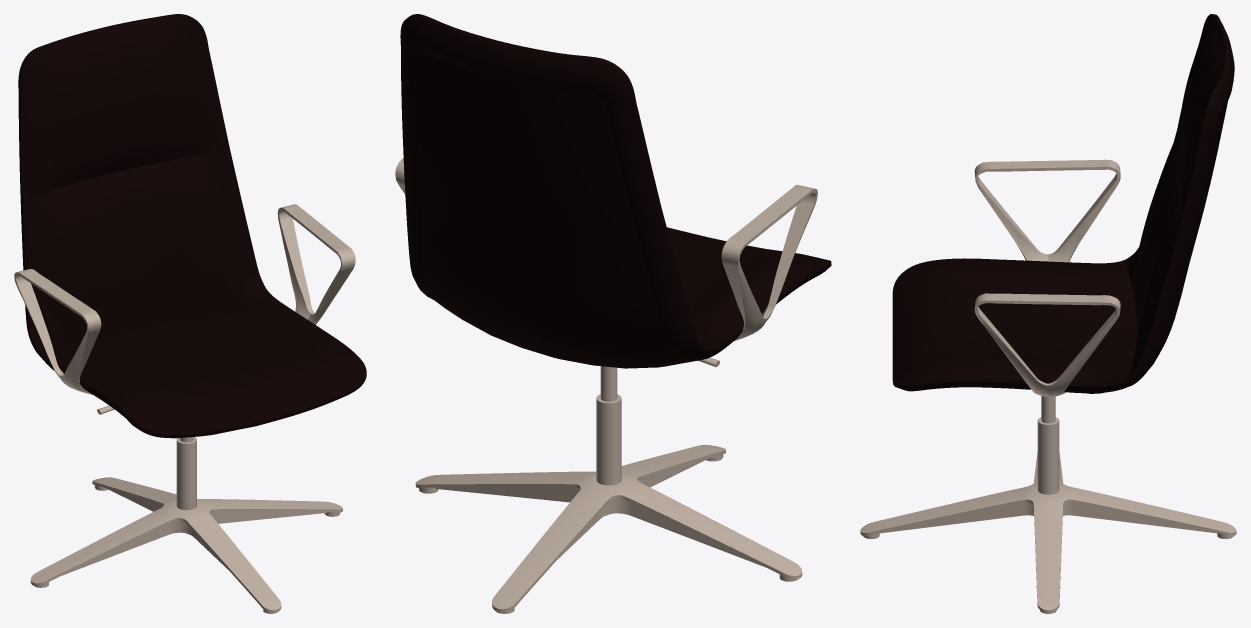
Rendered from 807_SlimConferenceChair.dae.
3 views of the same model, side by side, from view 1: azimuth 30°, elevation 25°; view 2: azimuth 150°, elevation 25°; view 3: azimuth 270°, elevation 25° (orthographic). The views are drawn at different scales.
Visible parts, largest first — view 1: ID10 (×4); view 2: ID10 (×3); view 3: ID10 (×4).
Part boxes in pixels (x1=…): ID10 (×4): x1=14, y1=14, x2=366, y2=612; ID10 (×3): x1=400, y1=14, x2=831, y2=612; ID10 (×4): x1=860, y1=14, x2=1236, y2=612.
Size of the model in its own units: 729 by 729 by 1034.
